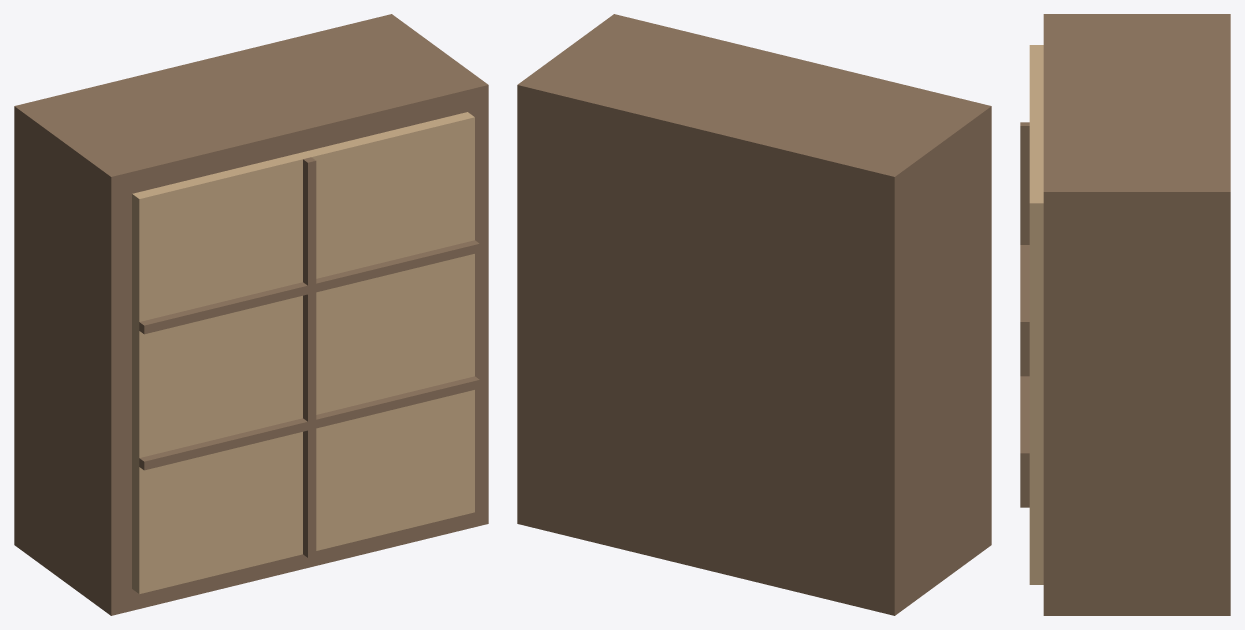
File: feudal-japan-castle-town-medicine-drawers-7d21ecbc__26493.glb
3 views of the same model, side by side, from view 1: azimuth 30°, elevation 25°; view 2: azimuth 150°, elevation 25°; view 3: azimuth 270°, elevation 25° (orthographic). The views are drawn at different scales.
Parts seen in each view (by area): view 1: medicine-drawers; view 2: medicine-drawers; view 3: medicine-drawers.
Boxes of the visible parts, bbox=[...] form: medicine-drawers: bbox=[14, 14, 488, 615]; medicine-drawers: bbox=[517, 14, 991, 615]; medicine-drawers: bbox=[1020, 14, 1230, 615].
Bounding box in the file's own units: 0.9 × 1 × 0.45.
